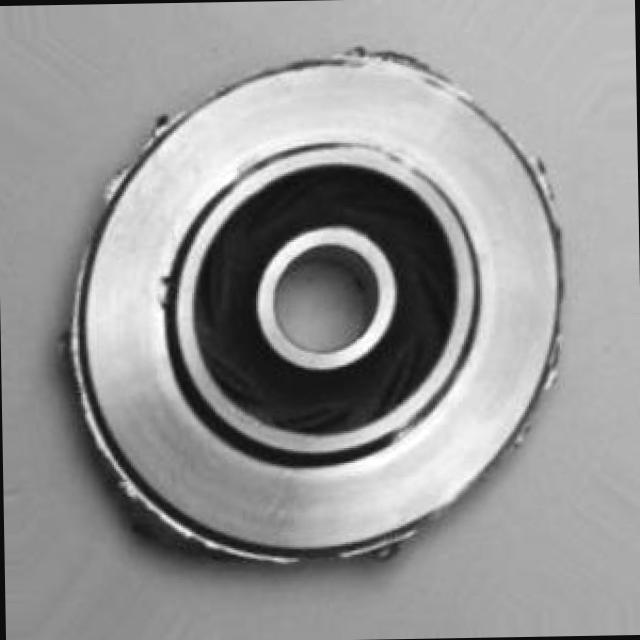Defect: (120, 483, 178, 548)
